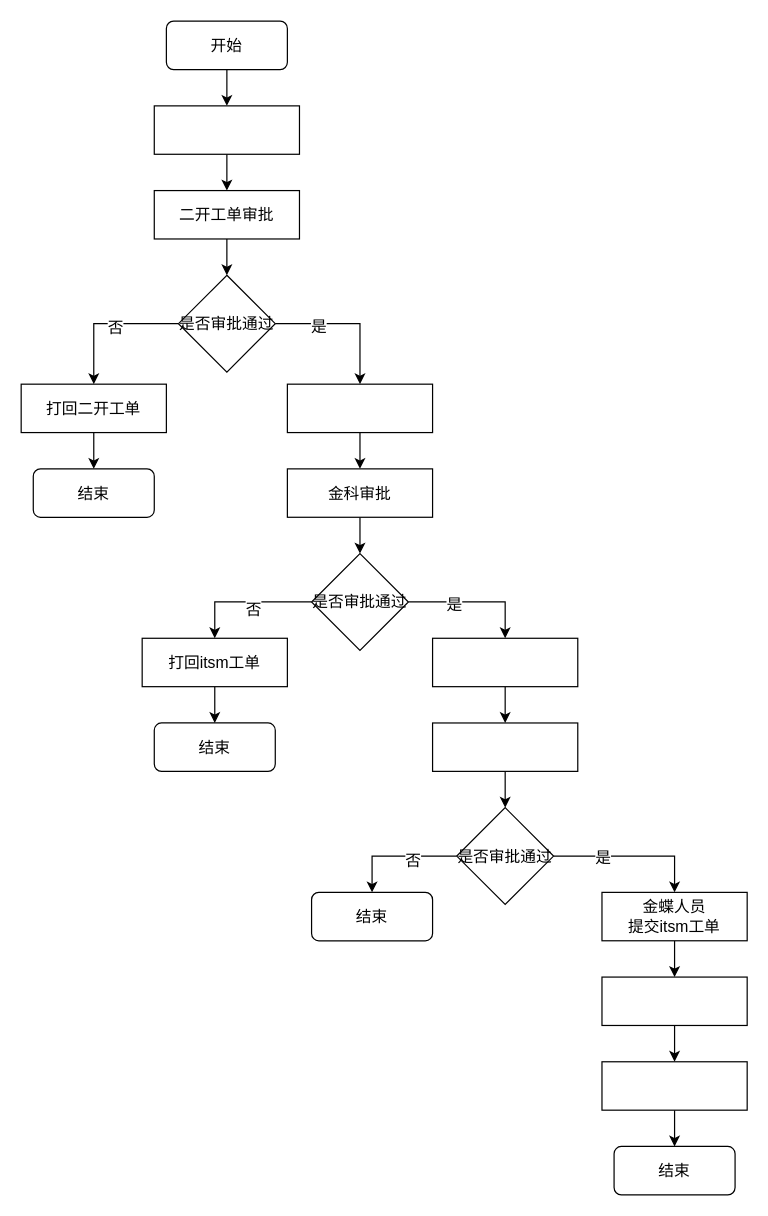
Some shapes in this 768 by 1216 pixel diagram are drawn without their labels. The shapes that lost their labels are listed below. From the top down, each one's centre as x and y in pixels, then its label:
At point (226, 129): "金蝶人员提交 二开工单".
At point (359, 408): "线下打印签字".
At point (504, 662): "客户发邮件".
At point (504, 746): "集团财务部审批".
At point (674, 1000): "双人复核执行".
At point (674, 1085): "纸质签字归档".
